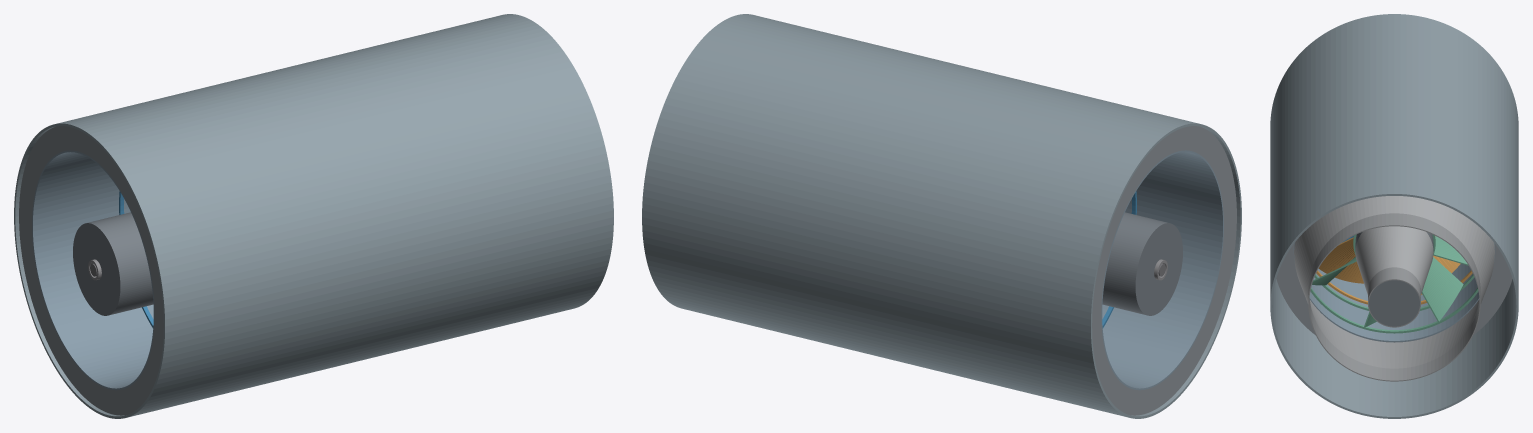
The model's file is SHC001_D1_P1_assembly.glb.
3 views of the same model, side by side, from view 1: azimuth 30°, elevation 25°; view 2: azimuth 150°, elevation 25°; view 3: azimuth 270°, elevation 25° (orthographic). The views are drawn at different scales.
Parts seen in each view (by area): view 1: outer_guard, flow_liner, outer_seal_inlet, capsule_front_cap, capsule_shell_1; view 2: outer_guard, flow_liner, outer_seal_inlet, capsule_front_cap, capsule_shell_1; view 3: outer_guard, nozzle_outer_shell, outlet_outer_duct, flow_liner, stator, nozzle_inner_shell, outer_seal_outlet, capsule_rear_cap, rotor2, outlet_inner_duct.
Boxes of the visible parts, <box> form: outer_guard: <box>14,14,613,418</box>; flow_liner: <box>32,150,154,390</box>; outer_seal_inlet: <box>19,126,163,415</box>; capsule_front_cap: <box>73,222,122,315</box>; capsule_shell_1: <box>89,212,153,314</box>; outer_guard: <box>642,14,1241,418</box>; flow_liner: <box>1101,150,1223,390</box>; outer_seal_inlet: <box>1092,126,1236,415</box>; capsule_front_cap: <box>1133,222,1182,315</box>; capsule_shell_1: <box>1102,212,1166,314</box>; outer_guard: <box>1270,14,1518,418</box>; nozzle_outer_shell: <box>1294,196,1494,368</box>; outlet_outer_duct: <box>1308,213,1480,381</box>; flow_liner: <box>1293,243,1495,342</box>; stator: <box>1310,234,1478,333</box>; nozzle_inner_shell: <box>1355,226,1433,294</box>; outer_seal_outlet: <box>1276,244,1512,342</box>; capsule_rear_cap: <box>1369,280,1419,326</box>; rotor2: <box>1316,237,1472,304</box>; outlet_inner_duct: <box>1368,267,1420,327</box>.
Bounding box in the file's own units: 1.2 × 0.7 × 0.7.
